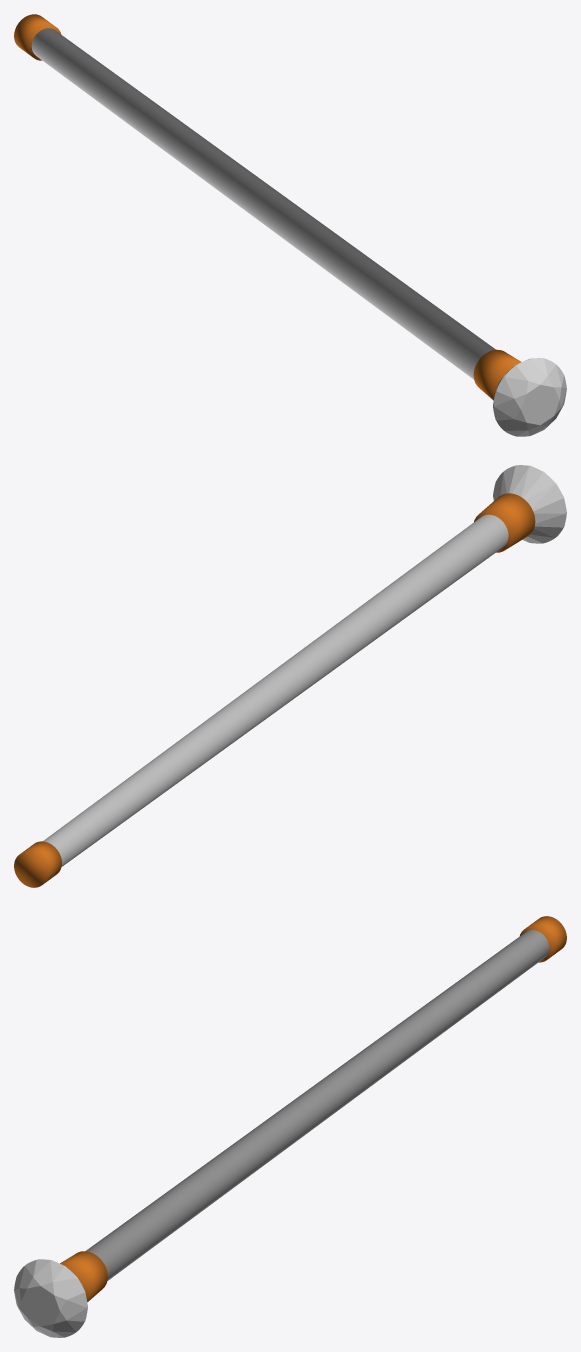
The model's file is fancyCane.obj.
3 renders of one model, top to bottom at view 1: azimuth 30°, elevation 25°; view 2: azimuth 150°, elevation 25°; view 3: azimuth 330°, elevation 25°, orthographic.
Visible parts, largest first — view 1: dobj_dmesh_floor_planks_oak_dirty, dobj_dmesh_Realistic_Glass_01, dobj_dmesh_Gold_Leaf; view 2: dobj_dmesh_floor_planks_oak_dirty, dobj_dmesh_Gold_Leaf, dobj_dmesh_Realistic_Glass_01; view 3: dobj_dmesh_floor_planks_oak_dirty, dobj_dmesh_Realistic_Glass_01, dobj_dmesh_Gold_Leaf.
Part boxes in pixels (x1,y1,x2,y2): dobj_dmesh_floor_planks_oak_dirty: (31,28,495,379); dobj_dmesh_Realistic_Glass_01: (493,358,566,436); dobj_dmesh_Gold_Leaf: (14,14,521,400); dobj_dmesh_floor_planks_oak_dirty: (43,514,508,866); dobj_dmesh_Gold_Leaf: (14,493,535,887); dobj_dmesh_Realistic_Glass_01: (493,465,566,543); dobj_dmesh_floor_planks_oak_dirty: (85,930,549,1280); dobj_dmesh_Realistic_Glass_01: (14,1259,87,1337); dobj_dmesh_Gold_Leaf: (60,916,566,1301).
Size of the model in its own units: 0.6233 by 0.6233 by 7.53.
